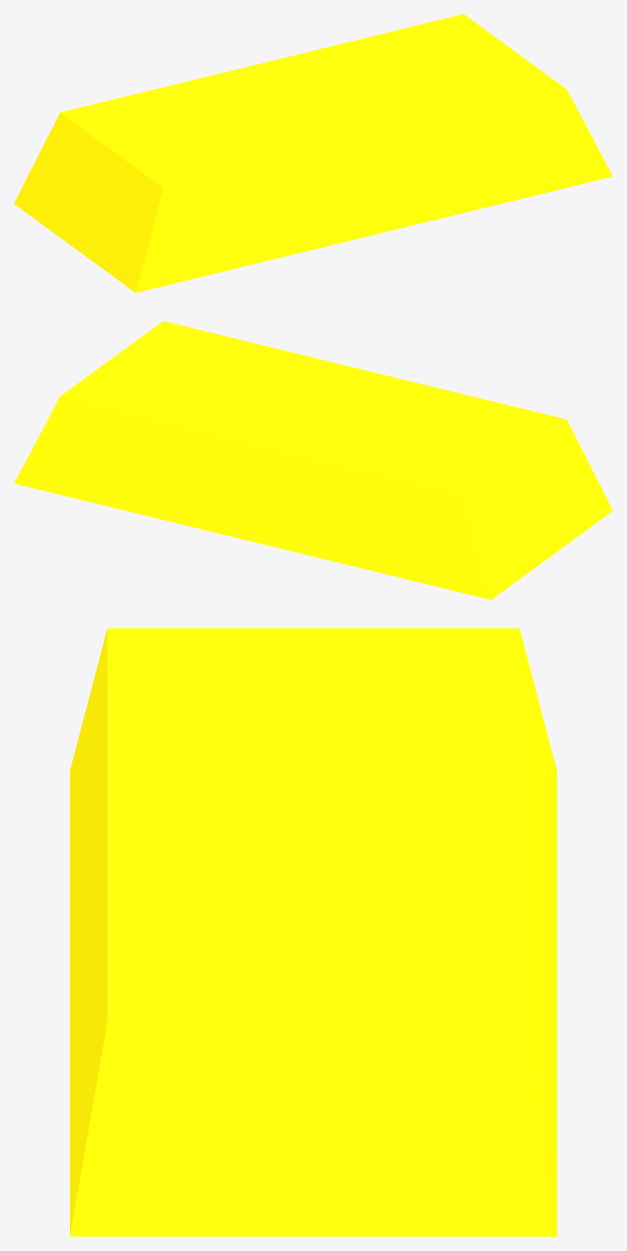
Rendered from Gold_01.fbx.
The picture shows the model from 3 angles, top to bottom: view 1: azimuth 30°, elevation 25°; view 2: azimuth 150°, elevation 25°; view 3: azimuth 270°, elevation 25°; orthographic projection. The views are drawn at different scales.
Visible parts, largest first — view 1: Gold_01; view 2: Gold_01; view 3: Gold_01.
Part boxes in pixels (x1,y1,x2,y2): Gold_01: (14, 14, 612, 292); Gold_01: (14, 321, 612, 599); Gold_01: (70, 628, 556, 1236).
Bounding box in the file's own units: 23.8 × 4.25 × 10.52.
